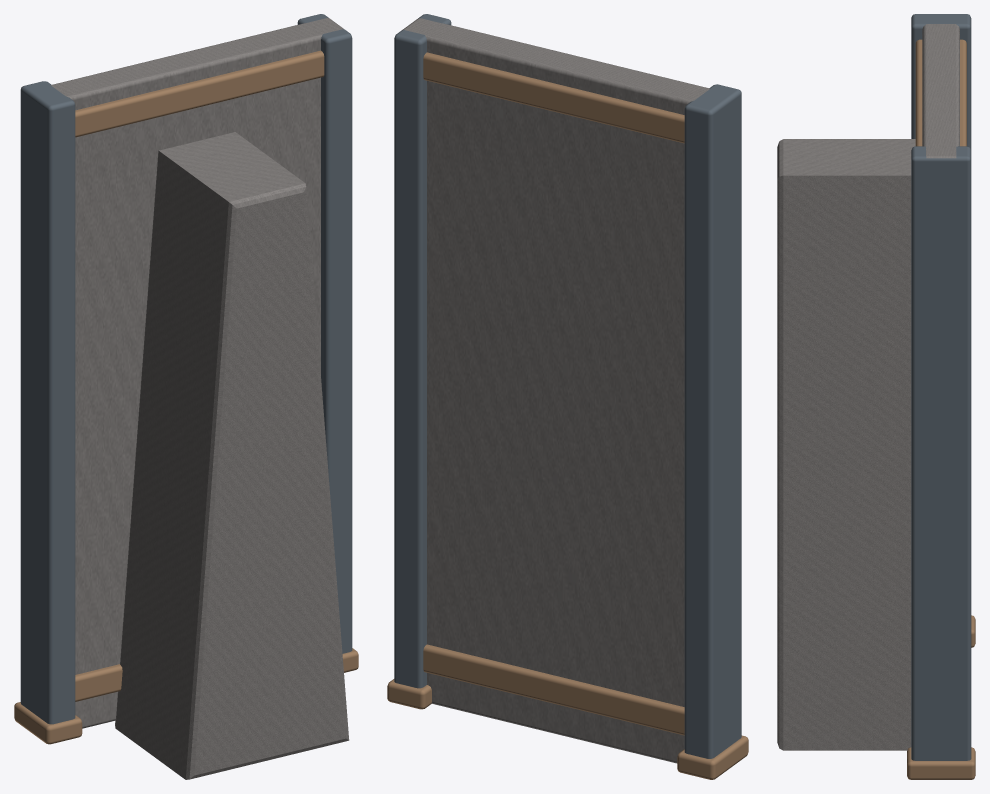
The model's file is arena-shooter-map-kit-wall-buttress-73bdca46__23066.glb.
3 renders of one model, left to right at view 1: azimuth 30°, elevation 25°; view 2: azimuth 150°, elevation 25°; view 3: azimuth 270°, elevation 25°, orthographic. The views are drawn at different scales.
Parts seen in each view (by area): view 1: wall-buttress; view 2: wall-buttress; view 3: wall-buttress.
Boxes of the visible parts, x1=… form: wall-buttress: x1=14, y1=14, x2=358, y2=779; wall-buttress: x1=387, y1=14, x2=748, y2=779; wall-buttress: x1=777, y1=14, x2=975, y2=779.
Bounding box in the file's own units: 2.06 × 4.03 × 1.15.
Materials: 3 (1 with a texture image).
